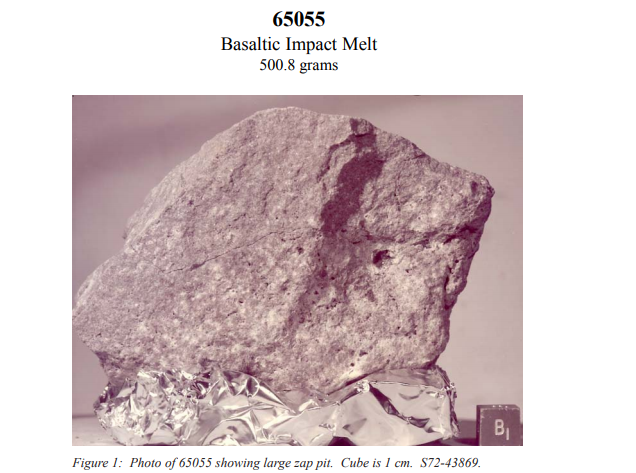Basalt: (71, 98, 481, 435)
